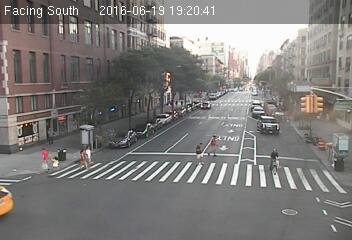neg: (262, 144, 285, 175), (229, 88, 252, 118), (310, 90, 331, 117), (321, 187, 341, 215), (293, 170, 311, 195), (135, 121, 153, 144), (325, 144, 342, 167), (147, 158, 164, 180), (117, 80, 132, 100)
pos: (205, 133, 225, 159), (188, 143, 207, 169), (77, 142, 96, 166), (35, 146, 51, 168)
